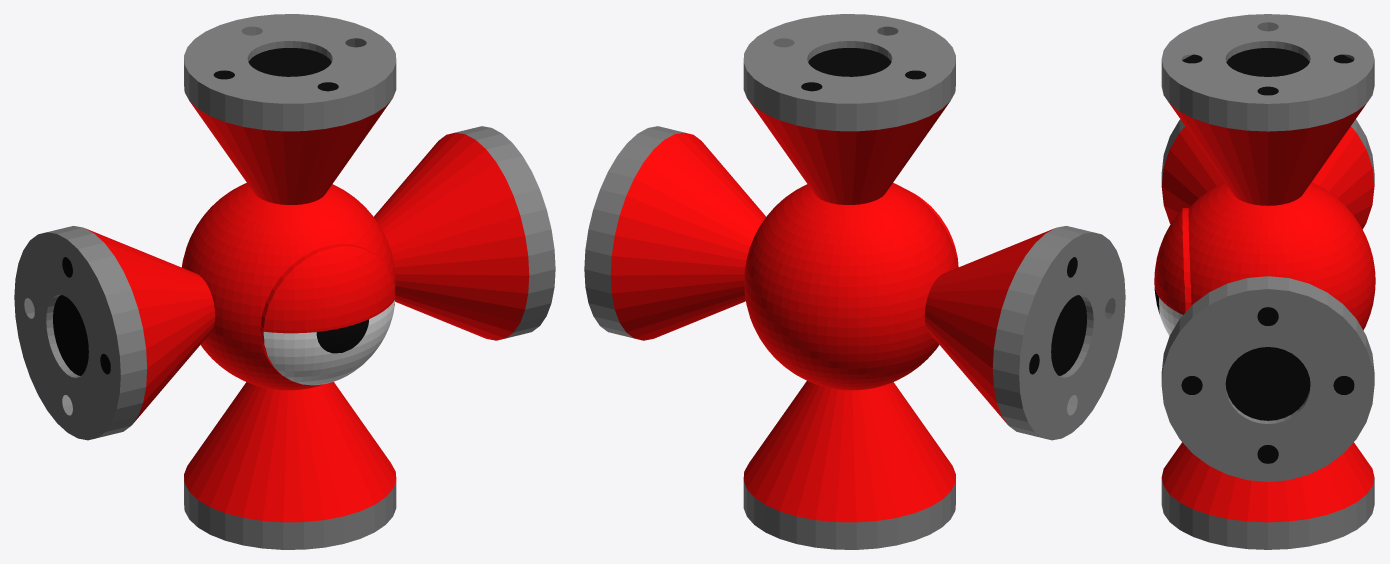
File: Suzy.obj
3 renders of one model, left to right at view 1: azimuth 30°, elevation 25°; view 2: azimuth 150°, elevation 25°; view 3: azimuth 270°, elevation 25°, orthographic.
Parts seen in each view (by area): view 1: Suzy_Sphere_Red, Suzy_Sphere_SIlver, Suzy_Sphere_Black, Suzy_Sphere_White; view 2: Suzy_Sphere_Red, Suzy_Sphere_SIlver, Suzy_Sphere_Black; view 3: Suzy_Sphere_SIlver, Suzy_Sphere_Red, Suzy_Sphere_Black, Suzy_Sphere_White.
Part boxes in pixels (x1=…): Suzy_Sphere_Red: x1=85, y1=100, x2=529, y2=522; Suzy_Sphere_SIlver: x1=14, y1=14, x2=555, y2=549; Suzy_Sphere_Black: x1=53, y1=48, x2=368, y2=375; Suzy_Sphere_White: x1=263, y1=300, x2=394, y2=385; Suzy_Sphere_Red: x1=610, y1=100, x2=1054, y2=522; Suzy_Sphere_SIlver: x1=584, y1=14, x2=1125, y2=549; Suzy_Sphere_Black: x1=801, y1=48, x2=1086, y2=375; Suzy_Sphere_SIlver: x1=1161, y1=14, x2=1374, y2=549; Suzy_Sphere_Red: x1=1154, y1=104, x2=1375, y2=522; Suzy_Sphere_Black: x1=1154, y1=48, x2=1354, y2=463; Suzy_Sphere_White: x1=1159, y1=297, x2=1182, y2=335.
Bounding box in the file's own units: 4.62 × 4.53 × 2.04.
